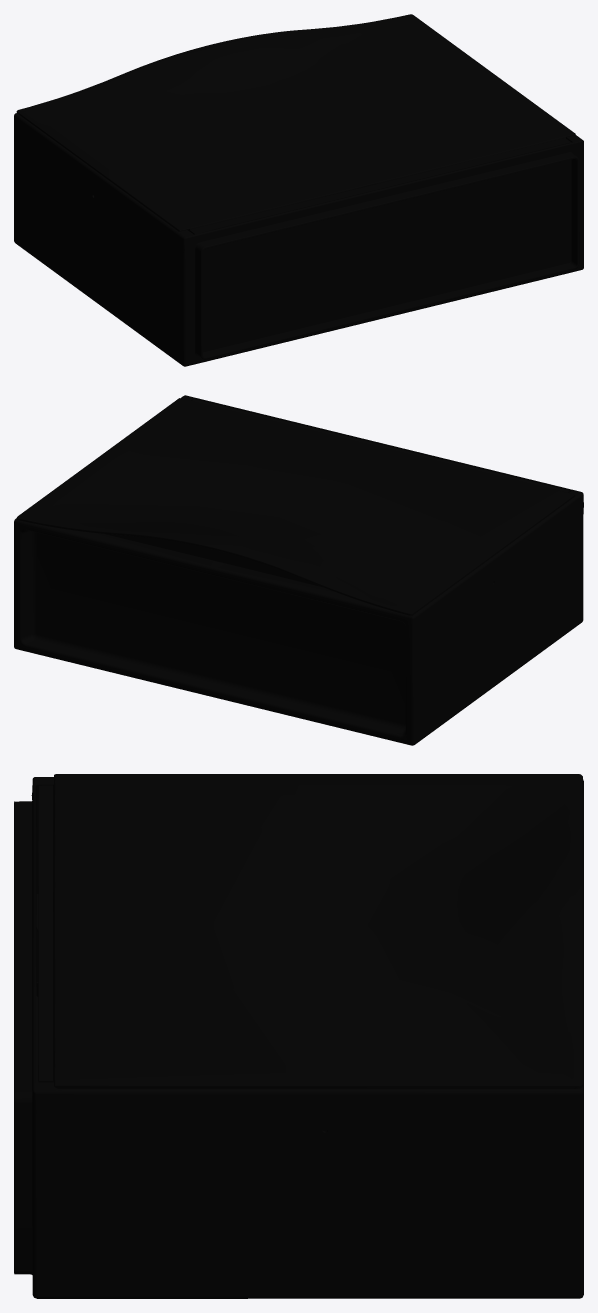
File: trones_szafka_na_buty_80397313.glb
3 renders of one model, top to bottom at view 1: azimuth 30°, elevation 25°; view 2: azimuth 150°, elevation 25°; view 3: azimuth 270°, elevation 25°, orthographic. The views are drawn at different scales.
Visible parts, largest first — view 1: trones_szafka_na_buty_80397313; view 2: trones_szafka_na_buty_80397313; view 3: trones_szafka_na_buty_80397313.
Boxes of the visible parts, bbox=[...] form: trones_szafka_na_buty_80397313: bbox=[14, 14, 583, 366]; trones_szafka_na_buty_80397313: bbox=[14, 395, 583, 745]; trones_szafka_na_buty_80397313: bbox=[14, 774, 583, 1298].
Size of the model in its own units: 0.5131 by 0.1841 by 0.3918.
1 material, 1 textured.
